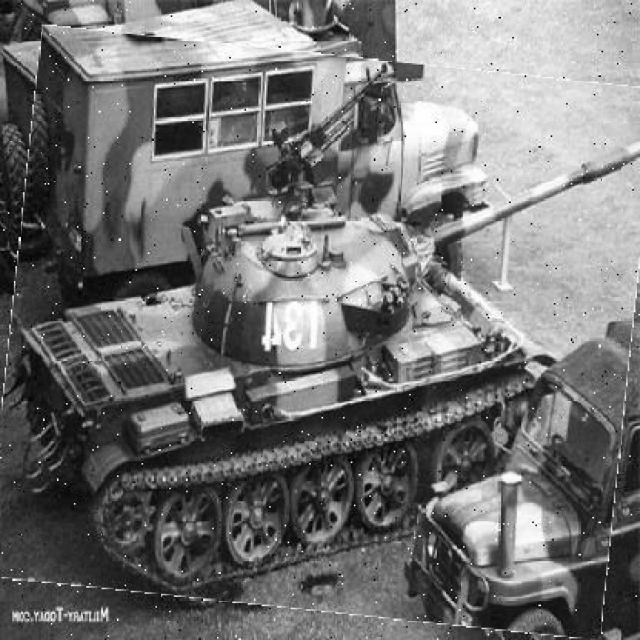Tank: (3, 40, 640, 629)
